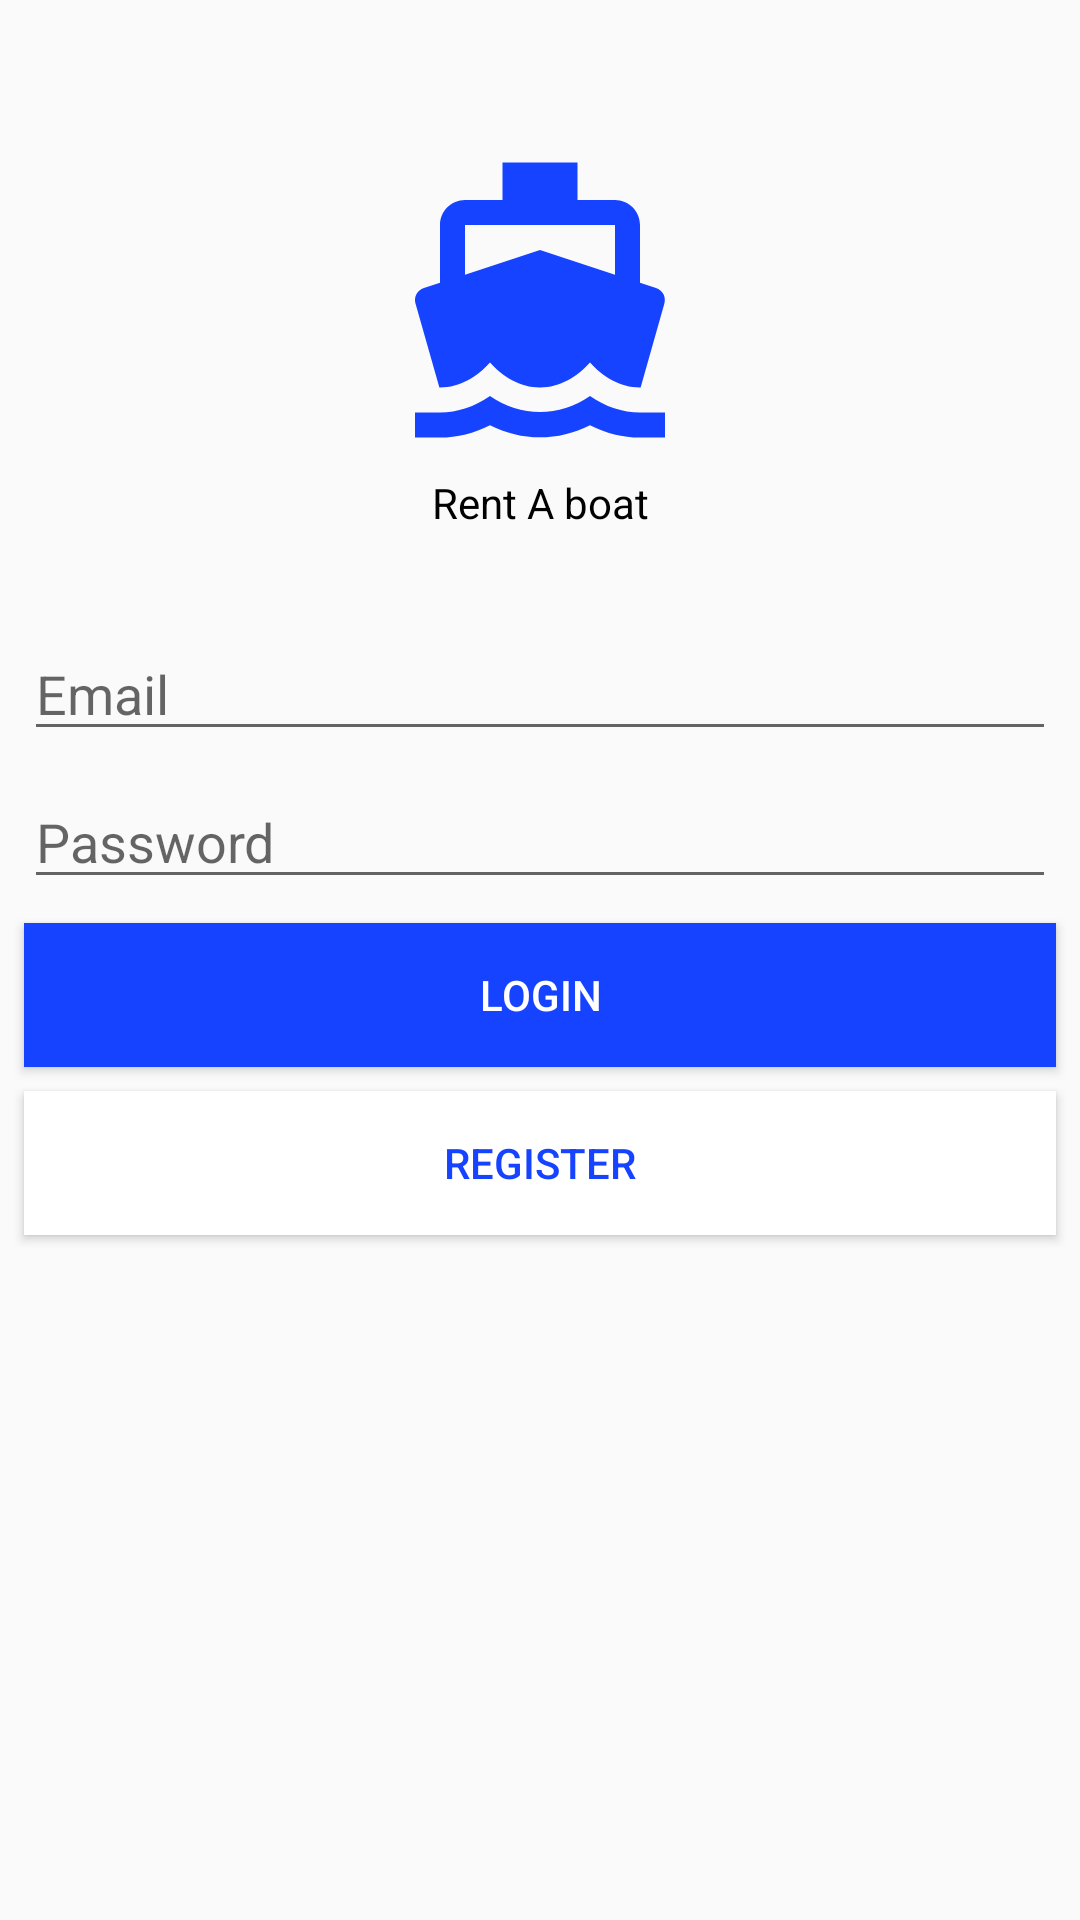

Icons on this 1080 x 1920 Android screen, each with the point to tap as (x=x, y=y):
directions boat: (x=540, y=300)
